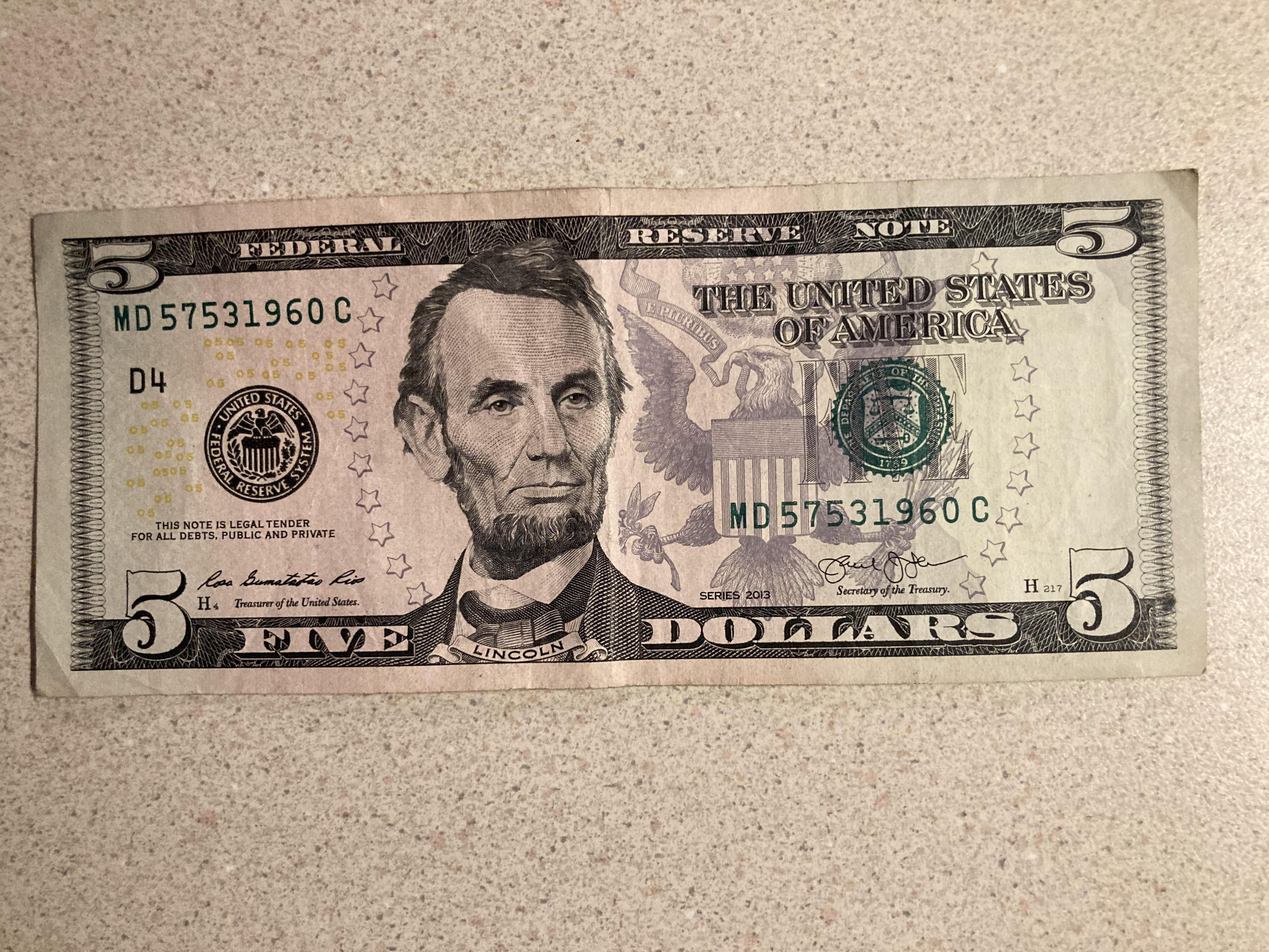five-front: (27, 165, 1203, 699)
